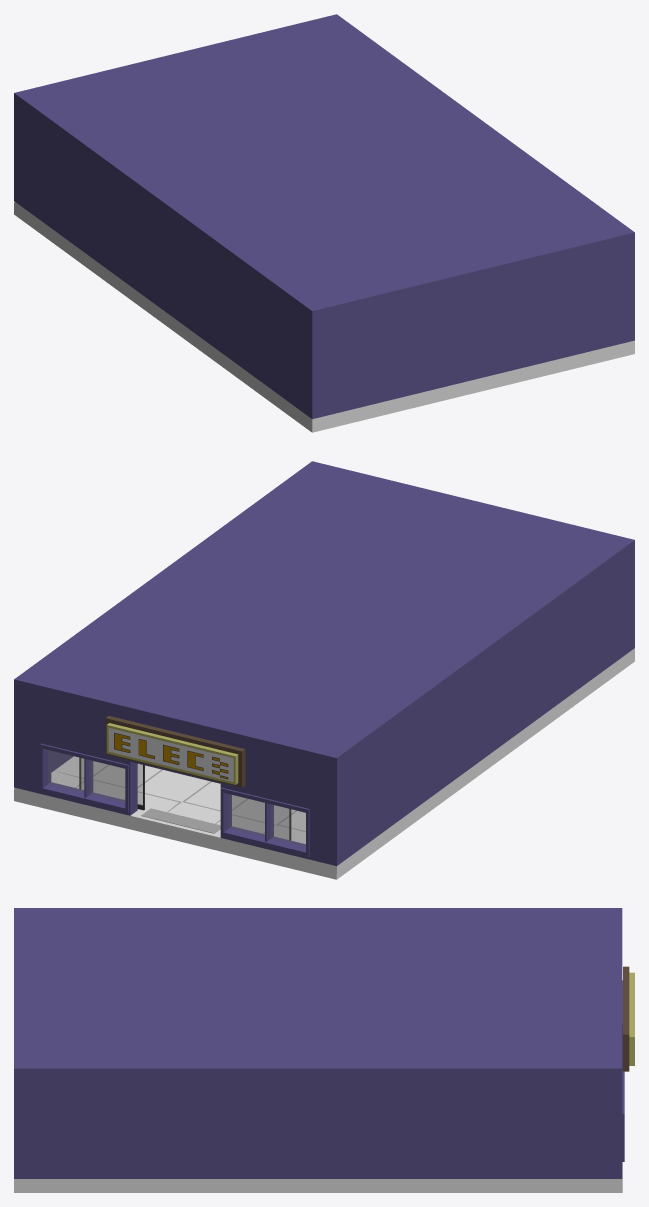
The model's file is Tienda de Electronicos 2.fbx.
3 renders of one model, top to bottom at view 1: azimuth 30°, elevation 25°; view 2: azimuth 150°, elevation 25°; view 3: azimuth 270°, elevation 25°, orthographic. The views are drawn at different scales.
Parts seen in each view (by area): view 1: Techo_3, Pared_21x10x1, Pared_1x10x36, Piso_3, Esquina_1x10x1, Esquina_1x10x48, Esquina_1x10x11; view 2: Techo_3, Pared_1x10x36, Piso_3, Fachada_3, Letrero_5, Esquina_1x10x11, Esquina_1x10x47, Vidrio_ventana_6, Vidrio_ventana_5, Vidrio_de_puerta_2, Esquina_1x10x1, Vidrio_de_puerta_1 (+1 smaller); view 3: Techo_3, Pared_1x10x79, Piso_3, Esquina_1x10x47, Esquina_1x10x48, Letrero_5.
Boxes of the visible parts, x1=… form: Techo_3: x1=14, y1=14, x2=634, y2=324; Pared_21x10x1: x1=338, y1=252, x2=609, y2=412; Pared_1x10x36: x1=29, y1=117, x2=297, y2=407; Piso_3: x1=14, y1=201, x2=634, y2=432; Esquina_1x10x1: x1=297, y1=314, x2=337, y2=419; Esquina_1x10x48: x1=609, y1=246, x2=634, y2=346; Esquina_1x10x11: x1=14, y1=106, x2=28, y2=211; Techo_3: x1=14, y1=461, x2=634, y2=771; Pared_1x10x36: x1=351, y1=564, x2=619, y2=854; Piso_3: x1=14, y1=648, x2=634, y2=879; Fachada_3: x1=40, y1=699, x2=310, y2=859; Letrero_5: x1=105, y1=716, x2=245, y2=787; Esquina_1x10x11: x1=311, y1=761, x2=351, y2=865; Esquina_1x10x47: x1=14, y1=693, x2=39, y2=793; Vidrio_ventana_6: x1=229, y1=794, x2=305, y2=846; Vidrio_ventana_5: x1=48, y1=750, x2=124, y2=802; Vidrio_de_puerta_2: x1=232, y1=795, x2=288, y2=839; Esquina_1x10x1: x1=620, y1=553, x2=634, y2=658; Vidrio_de_puerta_1: x1=81, y1=758, x2=142, y2=805; Techo_3: x1=14, y1=908, x2=622, y2=1082; Pared_1x10x79: x1=44, y1=1082, x2=591, y2=1178; Piso_3: x1=14, y1=1162, x2=622, y2=1192; Esquina_1x10x47: x1=592, y1=1082, x2=622, y2=1178; Esquina_1x10x48: x1=14, y1=1082, x2=44, y2=1178; Letrero_5: x1=623, y1=966, x2=634, y2=1071.
Size of the model in its own units: 25 by 9 by 40.83.
